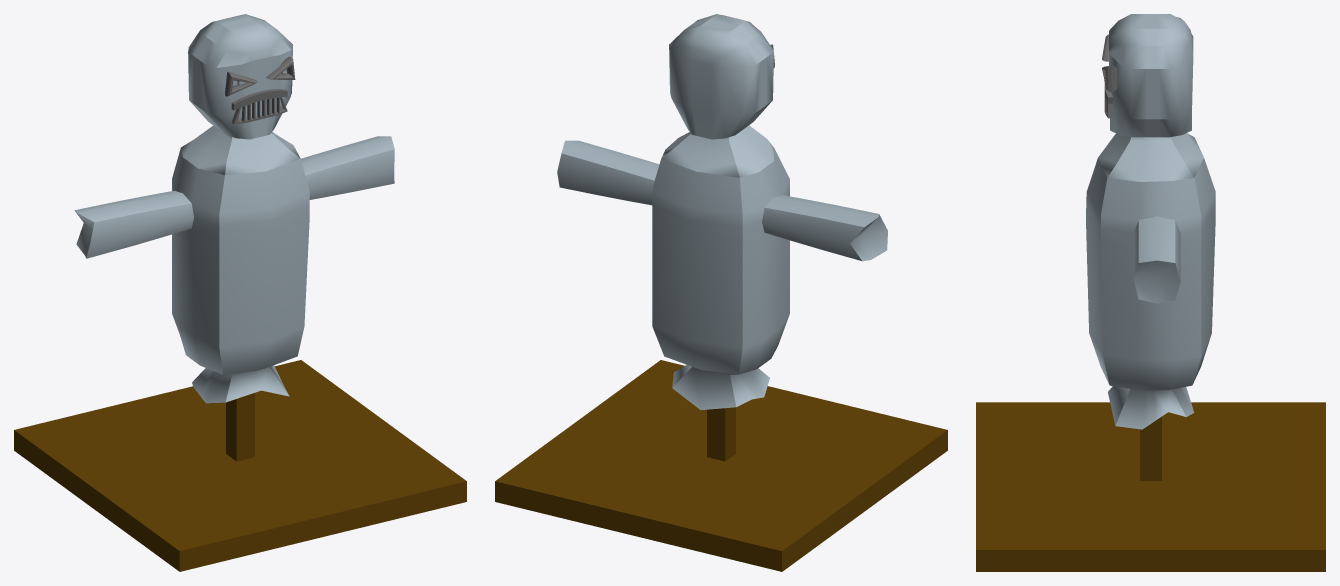
Rendered from Dummy.fbx.
3 renders of one model, left to right at view 1: azimuth 30°, elevation 25°; view 2: azimuth 150°, elevation 25°; view 3: azimuth 270°, elevation 25°, orthographic. The views are drawn at different scales.
Visible parts, largest first — view 1: pCube1, Body, mustache1, eyes; view 2: pCube1, Body; view 3: pCube1, Body, eyes.
Part boxes in pixels (x1,y1,x2,y2): pCube1: (14, 360, 466, 571); Body: (74, 14, 394, 403); mustache1: (231, 97, 287, 124); eyes: (225, 56, 295, 96); pCube1: (495, 360, 947, 571); Body: (557, 14, 887, 409); pCube1: (976, 402, 1325, 571); Body: (1086, 14, 1215, 429); eyes: (1102, 34, 1117, 91).
Bounding box in the file's own units: 6.33 × 8.72 × 5.8.
